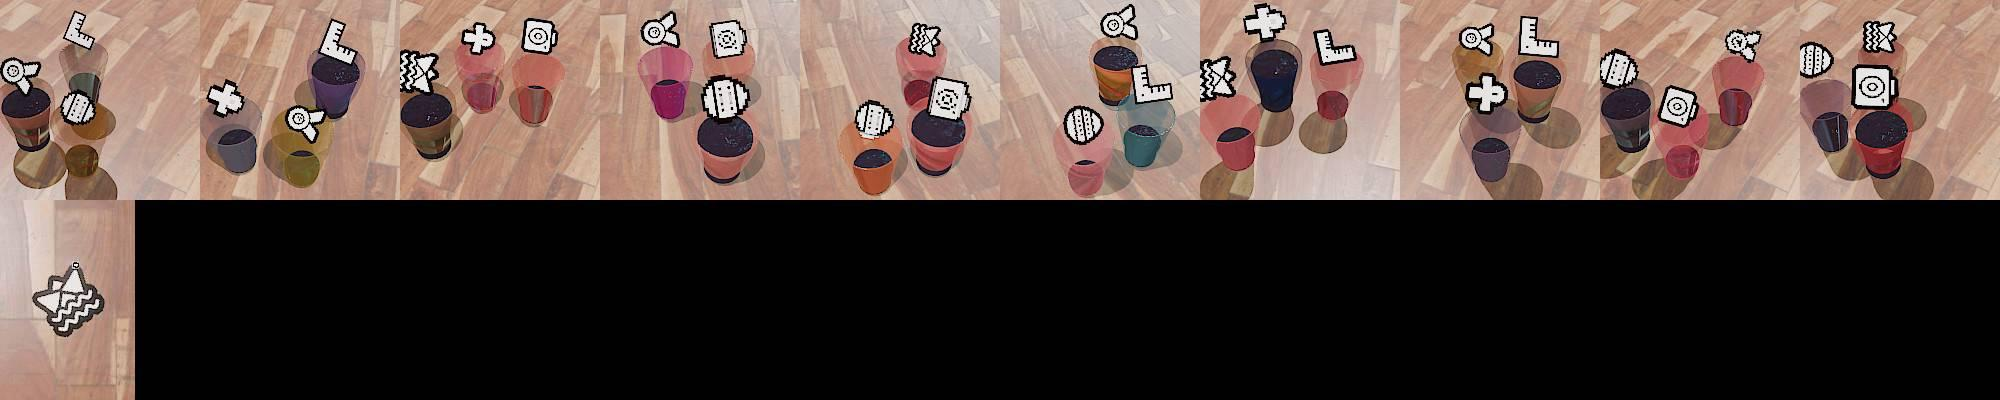icon: (31, 262, 106, 337), (700, 75, 750, 121), (1850, 64, 1898, 110), (1656, 85, 1703, 131), (316, 18, 358, 69), (926, 75, 971, 122), (1464, 71, 1509, 115), (1130, 62, 1175, 106), (1517, 14, 1561, 59), (399, 49, 439, 94), (1598, 48, 1639, 91), (1242, 3, 1287, 42), (1199, 56, 1237, 102), (853, 98, 895, 139), (285, 104, 328, 144), (1063, 104, 1103, 146), (640, 10, 680, 51), (1313, 28, 1355, 67), (709, 20, 748, 61), (0, 56, 43, 93), (521, 18, 559, 58), (206, 79, 245, 117), (1100, 3, 1139, 41), (63, 10, 97, 51), (1798, 42, 1833, 80), (58, 90, 96, 125), (1724, 27, 1763, 60), (1460, 22, 1495, 58), (1862, 20, 1898, 55), (908, 21, 942, 58), (461, 21, 496, 56)
